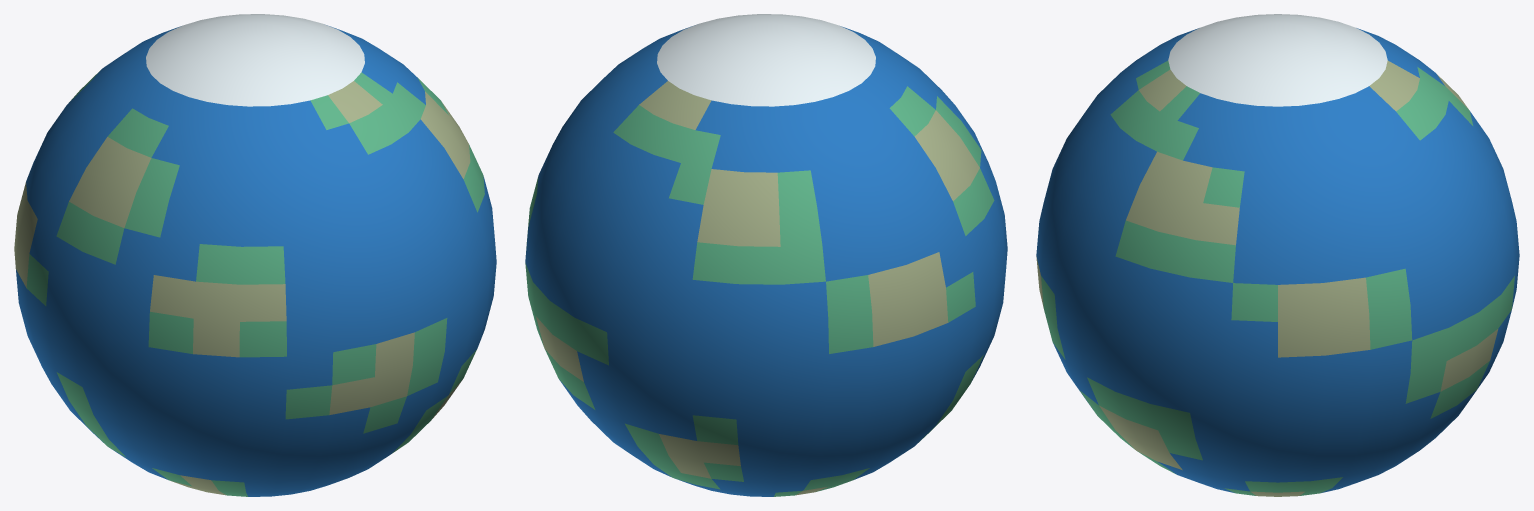
The model's file is earth.glb.
The picture shows the model from 3 angles, left to right: view 1: azimuth 30°, elevation 25°; view 2: azimuth 150°, elevation 25°; view 3: azimuth 270°, elevation 25°; orthographic projection.
Visible parts, largest first — view 1: Earth; view 2: Earth; view 3: Earth.
Part boxes in pixels (box(x1,y1,x2,y2)): Earth: box(14, 14, 496, 496); Earth: box(525, 14, 1007, 496); Earth: box(1036, 14, 1519, 496).
Bounding box in the file's own units: 2 × 2 × 2.
